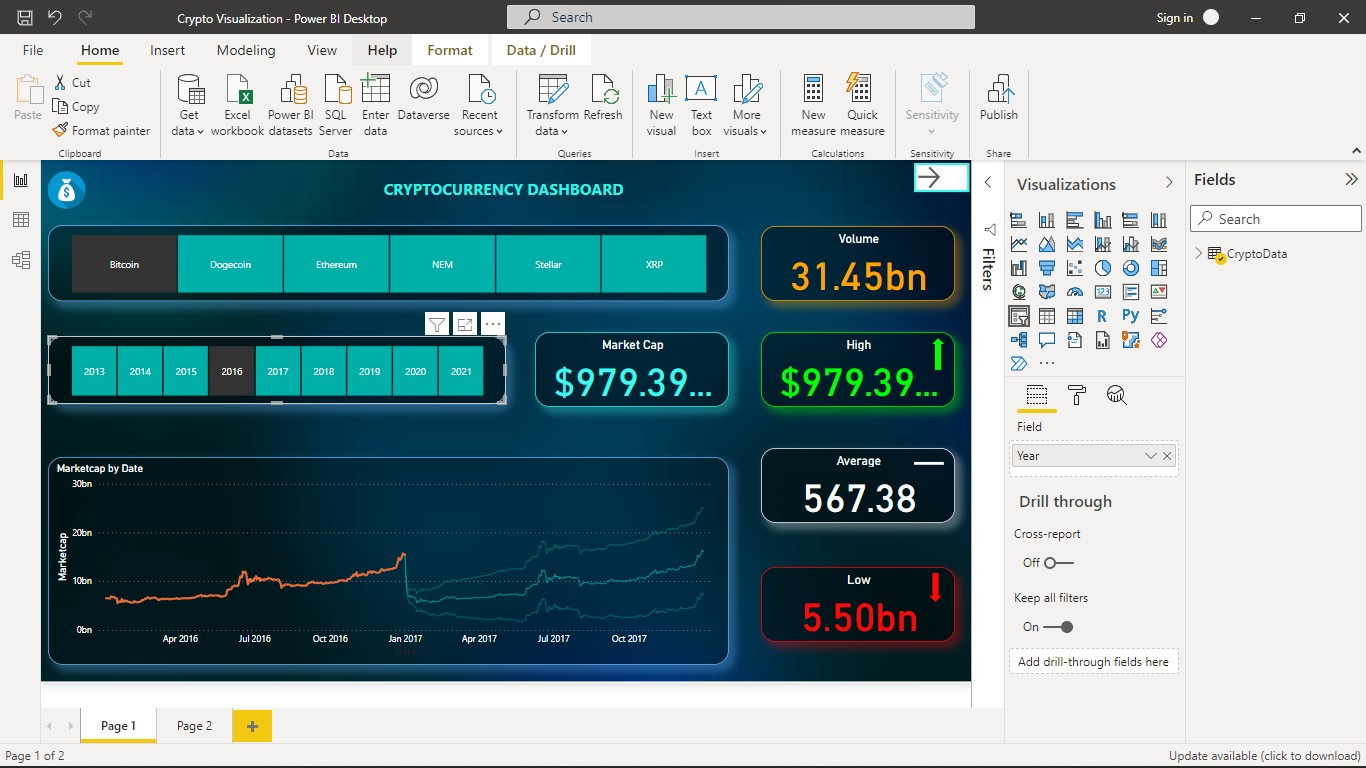

The dashboard page shown, as its layout file describes it:
{"tool":"powerbi","page":{"name":"Page 1","canvas":[1280,720],"ordinal":0},"visuals":[{"type":"slicer","fields":{"Values":["CryptoData.Name"]},"box":[9.6,89.5,937.3,104.6],"z":0},{"type":"slicer","fields":{"Values":["CryptoData.Year"]},"box":[9.6,242.2,630.4,93.6],"z":1000},{"type":"lineChart","fields":{"Y":["Sum(CryptoData.Marketcap)"],"Category":["CryptoData.Date"]},"box":[9.6,408.8,937.3,286.3],"z":2000},{"type":"actionButton","box":[1201.5,4.1,75.7,39.9],"z":3000},{"type":"image","box":[4.1,1.4,61.9,79.8],"z":4000},{"type":"textbox","box":[466.6,20.6,357.8,41.3],"z":5000},{"type":"card","title":"High","fields":{"Values":["Max(CryptoData.High)"]},"box":[991,236.7,267,103.2],"z":6000},{"type":"card","title":"Volume","fields":{"Values":["Sum(CryptoData.Volume)"]},"box":[991,90.8,267,103.2],"z":7000},{"type":"card","title":"Average","fields":{"Values":["Avg(CryptoData.Average)"]},"box":[991,396.4,267,103.2],"z":8000},{"type":"card","title":"Low","fields":{"Values":["Min(CryptoData.Marketcap)"]},"box":[991,560.2,267,103.2],"z":9000},{"type":"shape","box":[1226.3,245,16.5,44],"z":10000},{"type":"shape","box":[1222.2,568.4,17.9,39.9],"z":11000},{"type":"card","title":"Market Cap","fields":{"Values":["Max(CryptoData.High)"]},"box":[679.9,236.7,267,103.2],"z":12000},{"type":"shape","box":[1201.5,400.5,41.3,34.4],"z":14000}]}

Visuals, with their boxes on the page's 1280x720 design canvas (x1, y1, x2, y2). These are canvas units, not pixel positions in the 1366x768 screenshot, which may show the page scaled, cropped or inside an application window:
slicer - CryptoData.Name: [10, 90, 947, 194]
slicer - CryptoData.Year: [10, 242, 640, 336]
lineChart - Sum(CryptoData.Marketcap) x CryptoData.Date: [10, 409, 947, 695]
actionButton: [1202, 4, 1277, 44]
image: [4, 1, 66, 81]
textbox: [467, 21, 824, 62]
"High" card: [991, 237, 1258, 340]
"Volume" card: [991, 91, 1258, 194]
"Average" card: [991, 396, 1258, 500]
"Low" card: [991, 560, 1258, 663]
shape: [1226, 245, 1243, 289]
shape: [1222, 568, 1240, 608]
"Market Cap" card: [680, 237, 947, 340]
shape: [1202, 400, 1243, 435]
